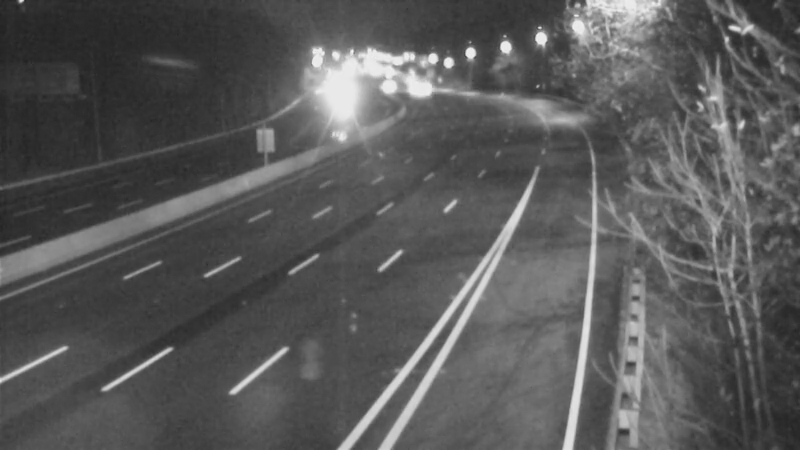vehicle: (386, 53, 436, 103), (364, 62, 414, 112), (398, 66, 448, 116), (317, 77, 367, 127)
